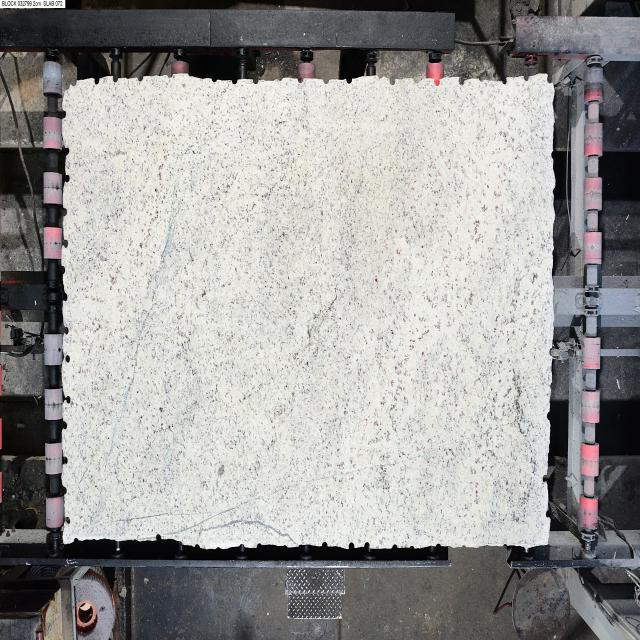chapa: (62, 75, 554, 548)
veio: (61, 205, 69, 221), (63, 143, 71, 158), (320, 540, 330, 550), (92, 76, 100, 88), (500, 76, 508, 88), (61, 237, 68, 250), (62, 485, 69, 498), (363, 541, 372, 551), (433, 77, 441, 88), (64, 515, 72, 526), (63, 172, 70, 184), (62, 290, 68, 304), (230, 78, 239, 87), (458, 76, 466, 86), (62, 325, 70, 335), (63, 395, 71, 405), (138, 73, 144, 86), (542, 473, 548, 486), (110, 75, 118, 84), (252, 78, 260, 87), (296, 77, 305, 85), (61, 264, 67, 276), (61, 110, 68, 120), (546, 74, 553, 84), (62, 455, 68, 466), (546, 508, 551, 521), (549, 346, 554, 359), (389, 77, 396, 86), (64, 354, 70, 364), (524, 74, 530, 84), (546, 411, 551, 422), (61, 420, 67, 429), (156, 533, 162, 542), (348, 541, 354, 549), (346, 78, 352, 84)
